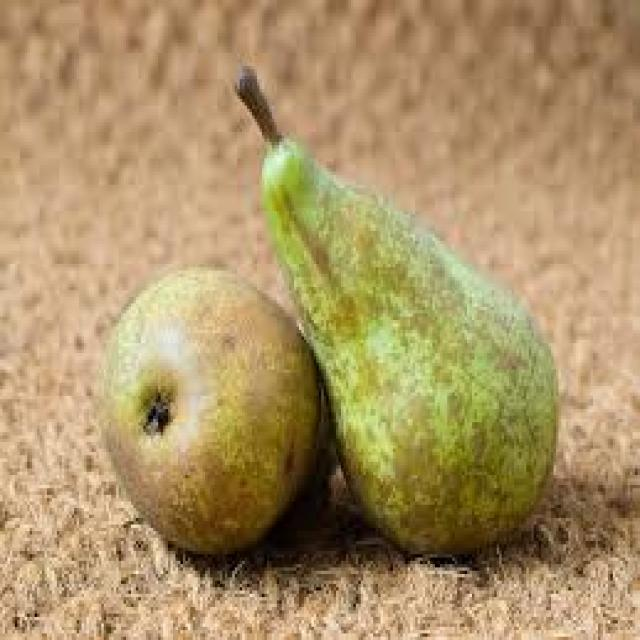pear: (232, 69, 562, 547), (99, 269, 365, 557)
